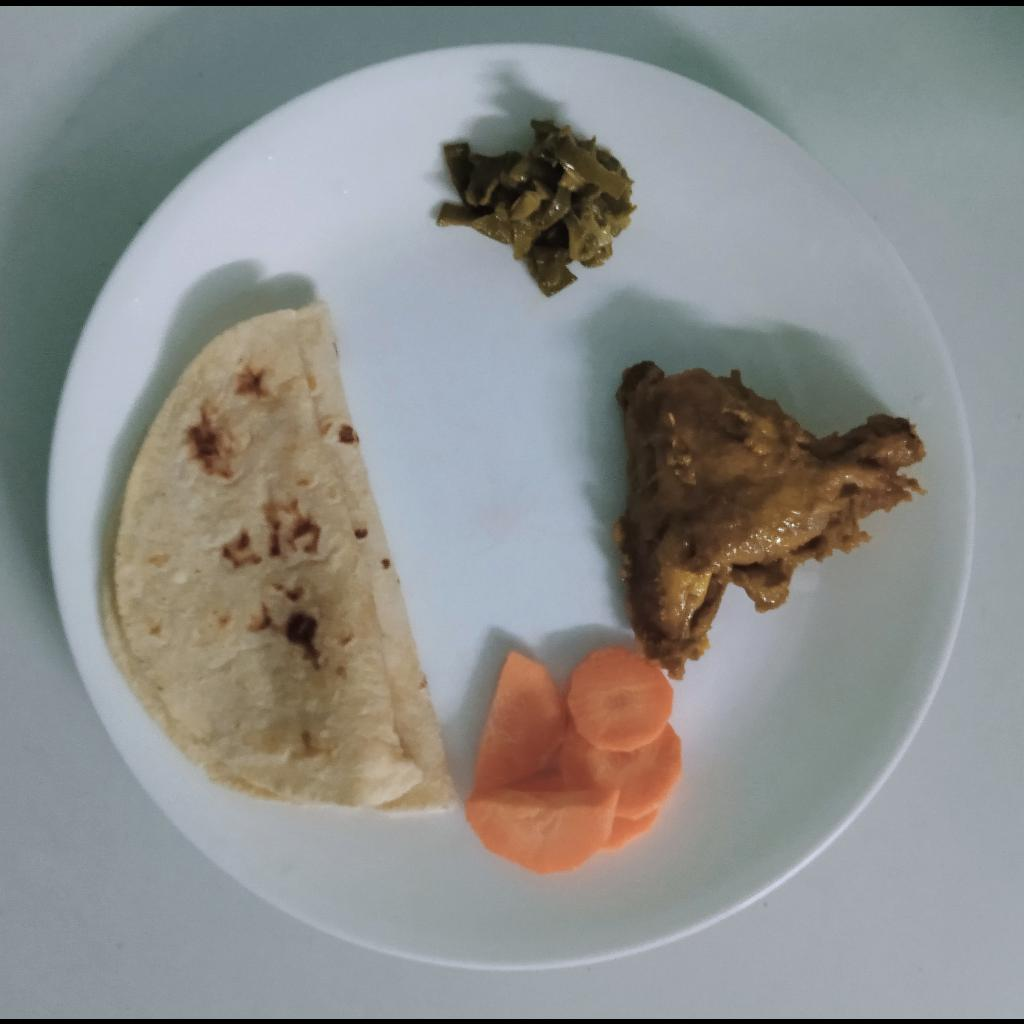carrot: (465, 645, 685, 877)
chicken: (612, 360, 931, 680)
ruti: (97, 301, 460, 817)
shim: (434, 118, 637, 297)
